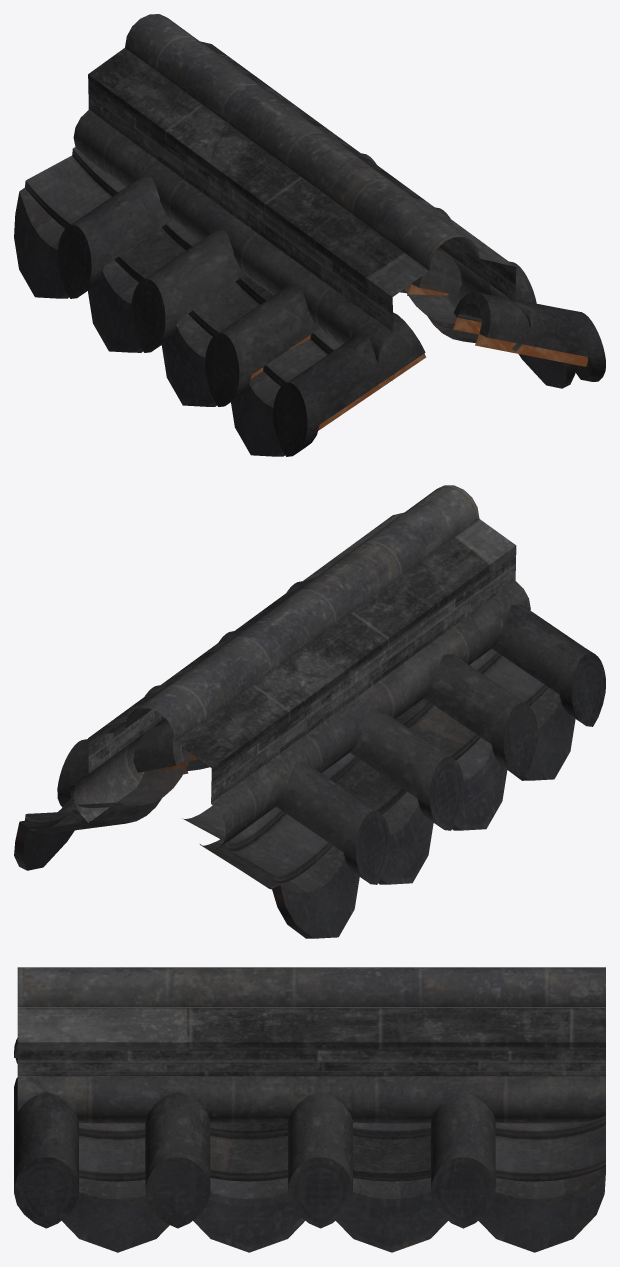
File: SM_HG_Roof01C.fbx
3 views of the same model, one above another, from view 1: azimuth 30°, elevation 25°; view 2: azimuth 150°, elevation 25°; view 3: azimuth 270°, elevation 25° (orthographic). The views are drawn at different scales.
Visible parts, largest first — view 1: SM_HG_Roof01C; view 2: SM_HG_Roof01C; view 3: SM_HG_Roof01C.
Boxes of the visible parts, left/top/right/bottom form: SM_HG_Roof01C: left=14, top=14, right=605, bottom=456; SM_HG_Roof01C: left=14, top=485, right=605, bottom=938; SM_HG_Roof01C: left=14, top=967, right=605, bottom=1252.
Bounding box in the file's own units: 58.01 × 100 × 39.95.
1 material, 1 textured.
